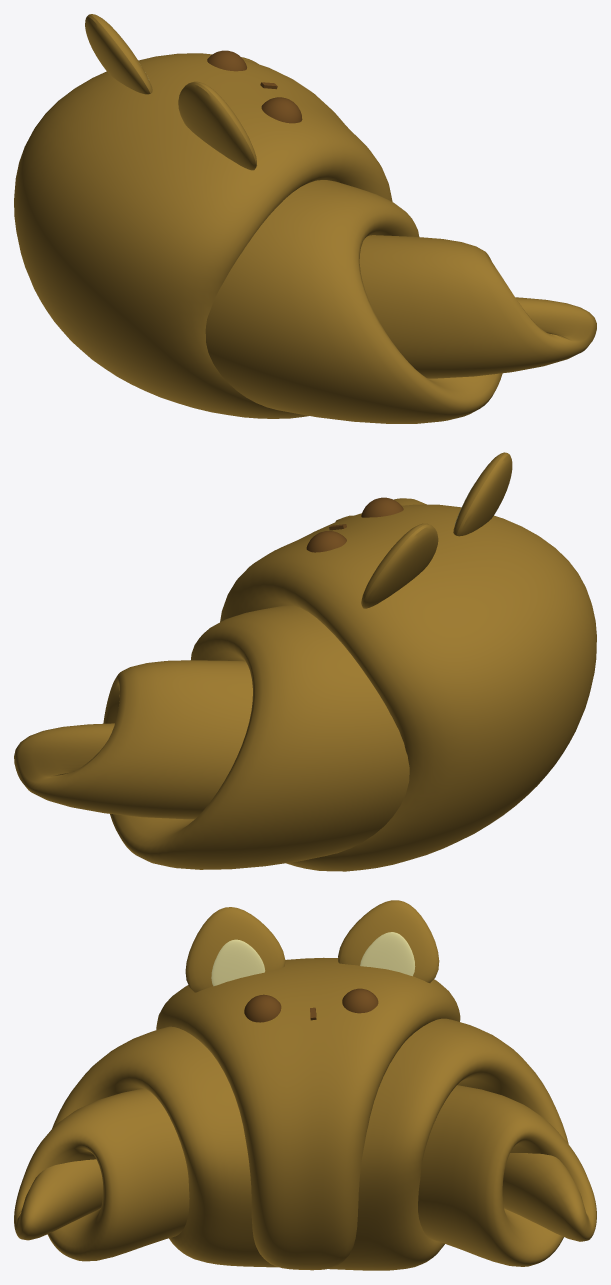
Rendered from croissant.fbx.
3 views of the same model, one above another, from view 1: azimuth 30°, elevation 25°; view 2: azimuth 150°, elevation 25°; view 3: azimuth 270°, elevation 25° (orthographic). The views are drawn at different scales.
Visible parts, largest first — view 1: Croissant, Cat Left Ear, Cat Right Ear, Cat left eye, Caft right eye; view 2: Croissant, Cat Right Ear, Cat Left Ear, Caft right eye, Cat left eye; view 3: Croissant, Cat Left Ear, Cat Right Ear, Cat left eye, Caft right eye.
Part boxes in pixels (x1,y1,x2,y2): Croissant: (14,53,596,423); Cat Left Ear: (178,81,256,170); Cat Right Ear: (85,14,152,94); Cat left eye: (261,97,302,123); Caft right eye: (207,50,246,71); Croissant: (14,498,596,871); Cat Right Ear: (361,523,438,608); Cat Left Ear: (453,452,512,536); Caft right eye: (306,531,346,552); Cat left eye: (361,497,403,517); Croissant: (14,957,596,1270); Cat Left Ear: (185,907,285,992); Cat Right Ear: (338,900,439,982); Cat left eye: (244,994,281,1022); Caft right eye: (342,988,378,1013).
Size of the model in its own units: 76.79 by 68.15 by 113.
